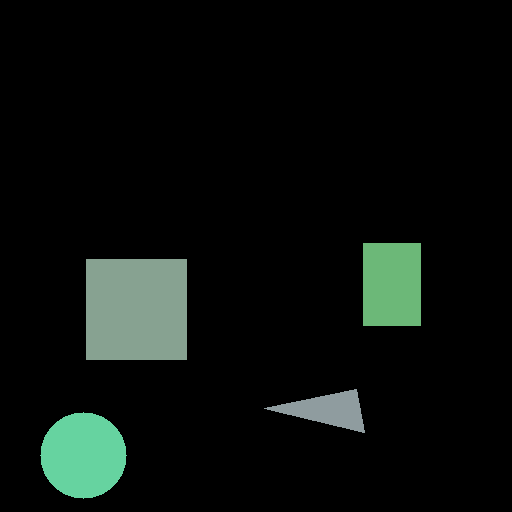circle: (40, 412, 126, 498)
rectangle: (363, 243, 420, 325)
square: (86, 259, 186, 359)
triangle: (264, 389, 364, 432)
